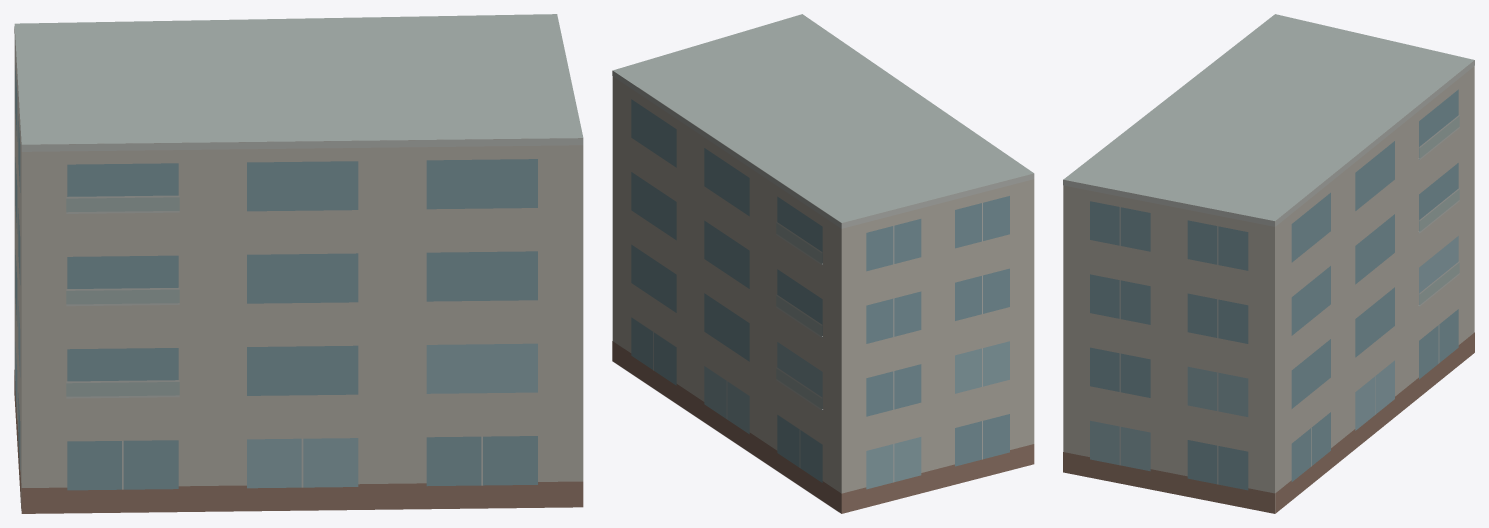
The model's file is survey-upis-33025743.glb.
3 views of the same model, side by side, from view 1: azimuth 30°, elevation 25°; view 2: azimuth 150°, elevation 25°; view 3: azimuth 270°, elevation 25° (orthographic). The views are drawn at different scales.
Parts seen in each view (by area): view 1: survey-upis-33025743.tmp; view 2: survey-upis-33025743.tmp; view 3: survey-upis-33025743.tmp.
Part boxes in pixels (<box>): survey-upis-33025743.tmp: <box>14,14,583,513</box>; survey-upis-33025743.tmp: <box>612,14,1034,513</box>; survey-upis-33025743.tmp: <box>1063,14,1474,513</box>.
Size of the model in its own units: 18.83 by 12.4 by 15.81.
